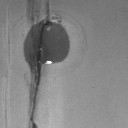slag inclusion: (23, 0, 71, 128)
